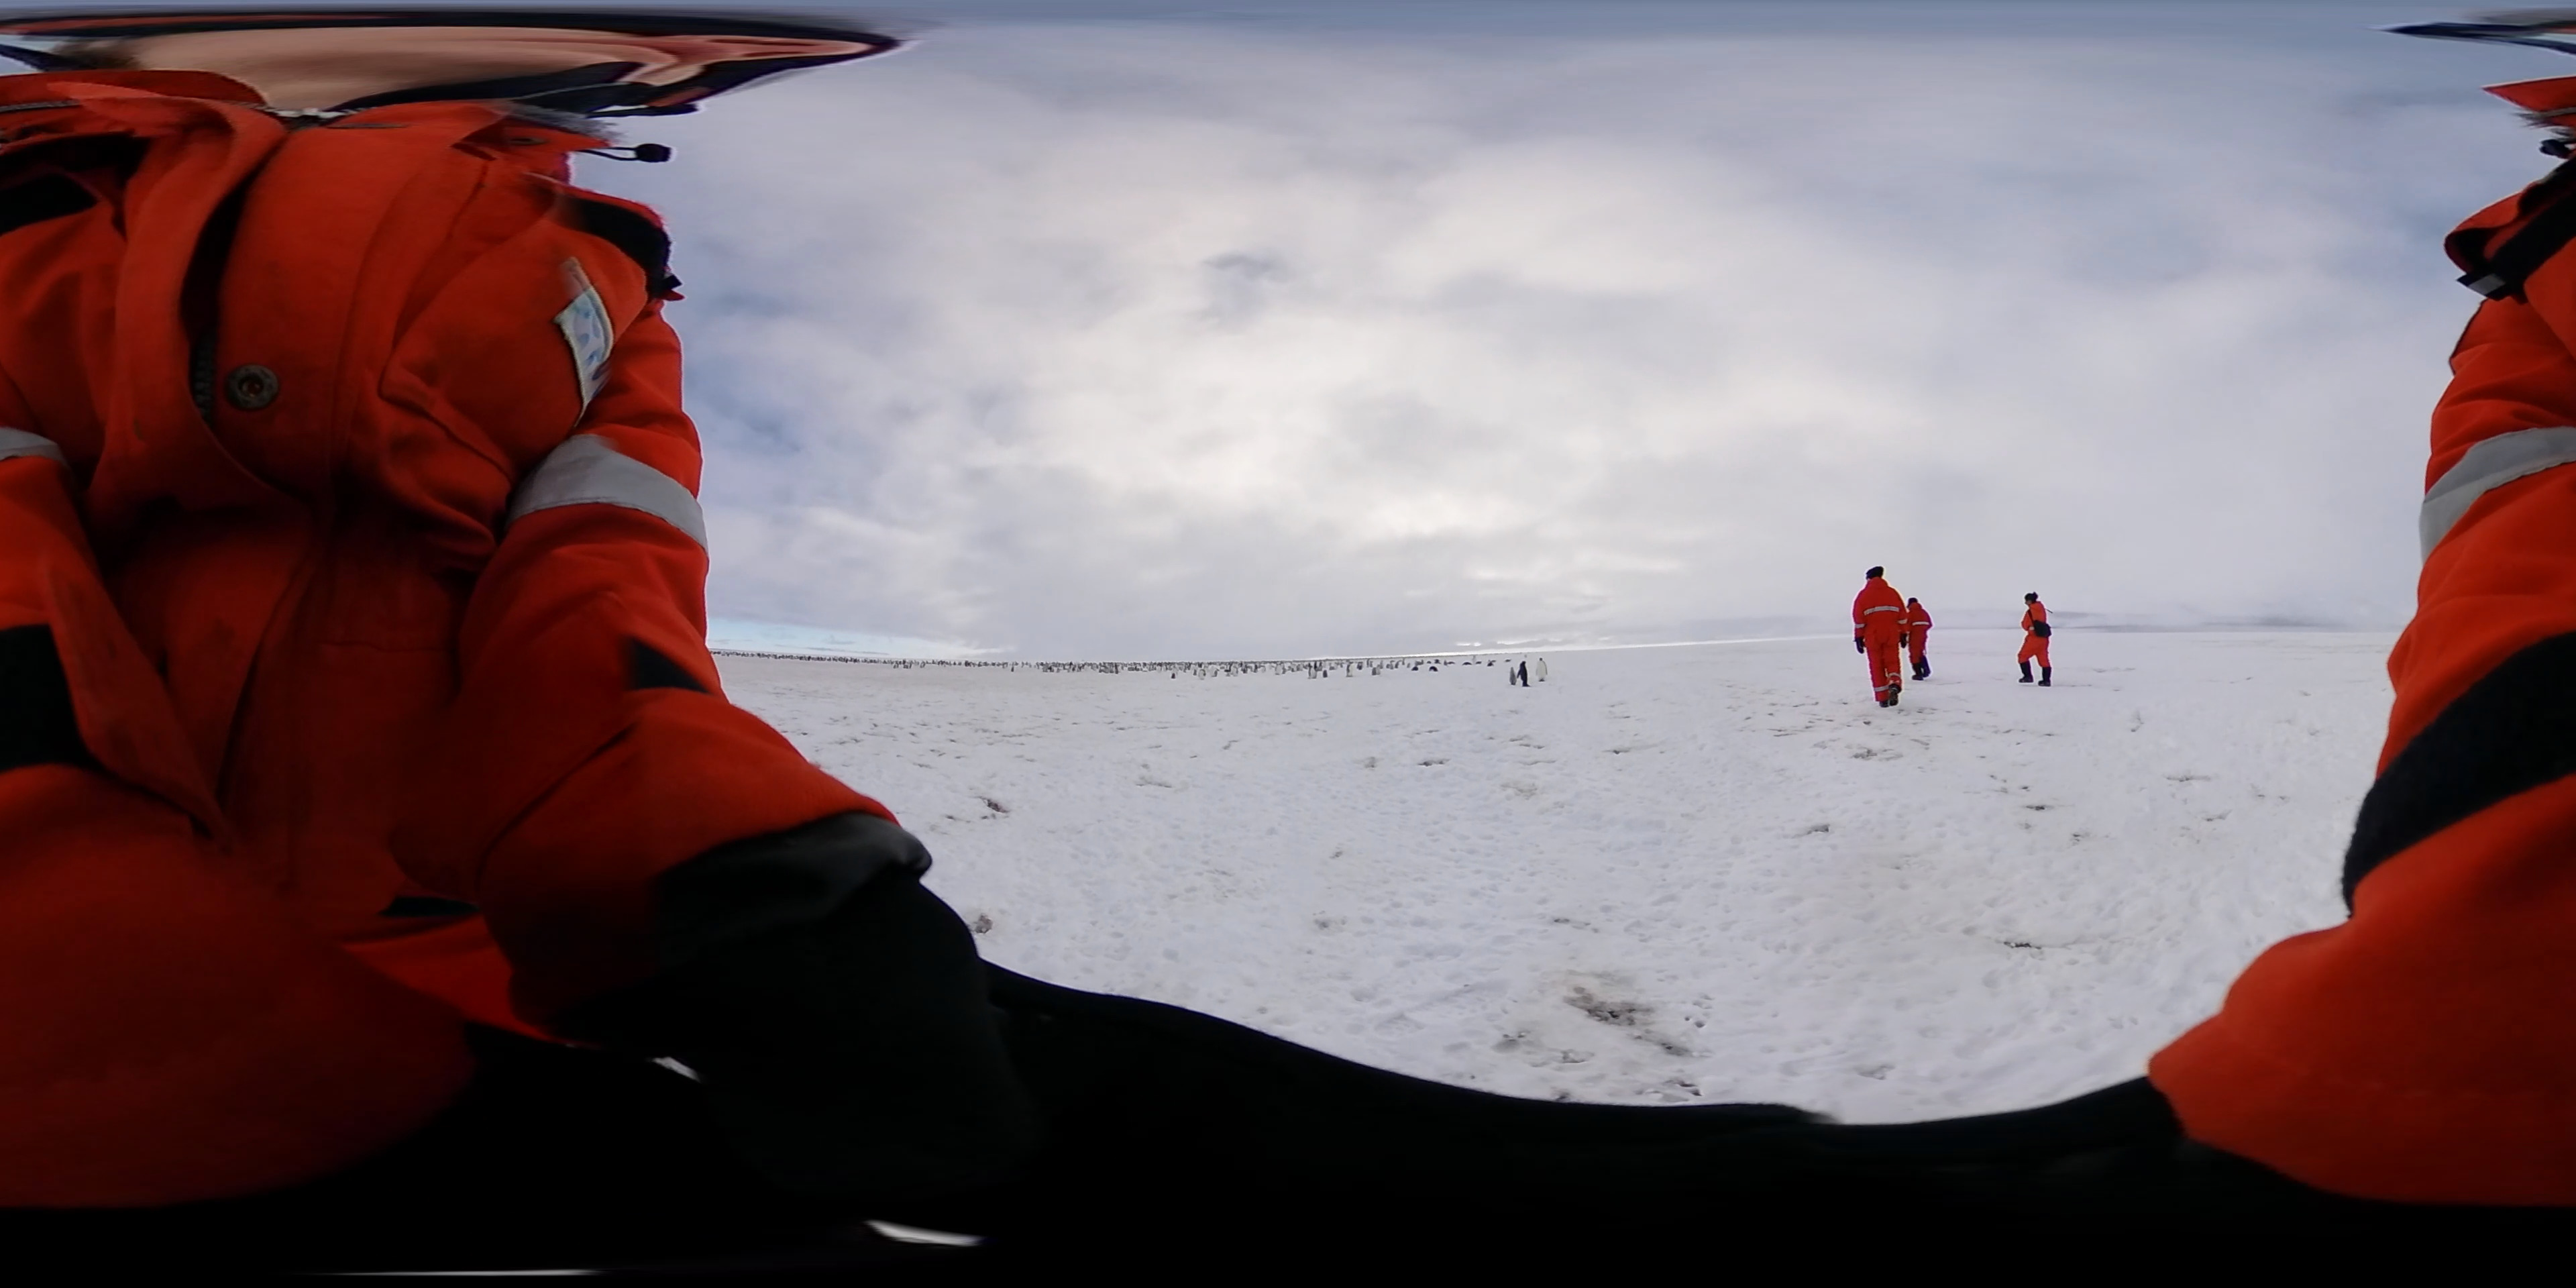adult_standing_penguin: (1533, 657, 1551, 683), (1518, 660, 1533, 692)
juvenile_penguin: (1506, 665, 1518, 685)
researcher: (0, 7, 941, 1288), (2307, 10, 2576, 1288), (1848, 563, 1911, 711), (2012, 590, 2057, 692), (1902, 595, 1935, 682)
